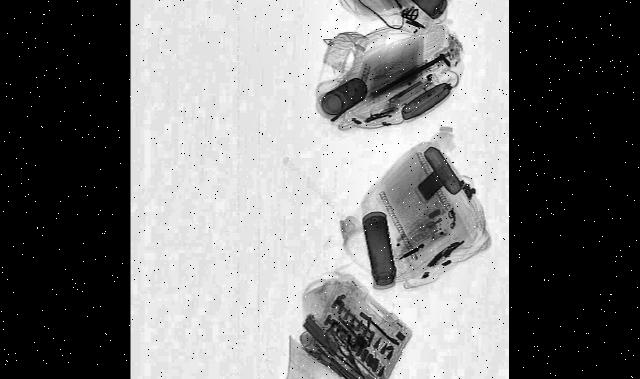Scissors: (323, 311, 367, 379)
